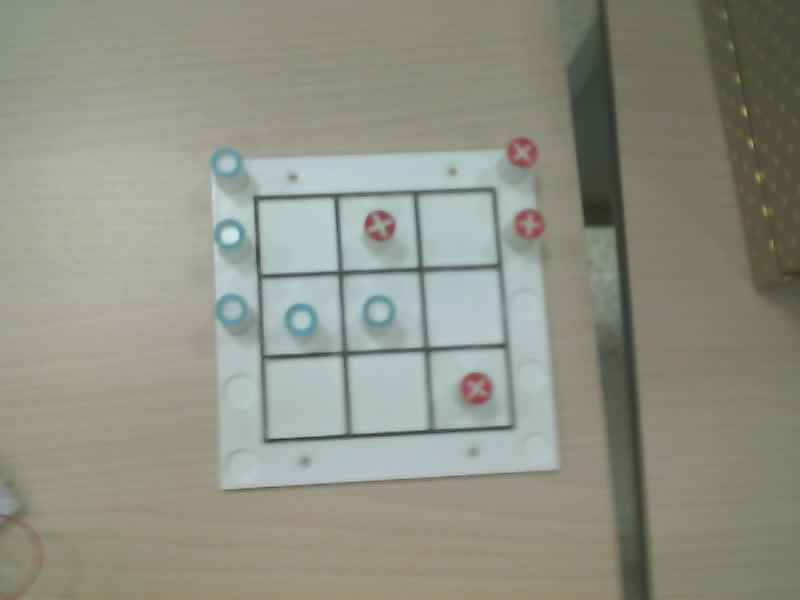blue circle: (284, 303, 317, 336), (215, 294, 248, 326), (363, 295, 395, 326), (214, 219, 245, 248), (210, 149, 241, 177)
board: (212, 140, 557, 488)
cells: (264, 356, 345, 438), (348, 352, 428, 433), (430, 349, 511, 429), (261, 275, 341, 355), (343, 273, 423, 350), (424, 269, 504, 346), (257, 198, 338, 274), (338, 194, 417, 269), (419, 191, 496, 266)
grid: (254, 188, 515, 441)
red cross: (460, 372, 492, 404), (364, 210, 395, 240), (507, 137, 538, 167), (514, 209, 544, 239)
